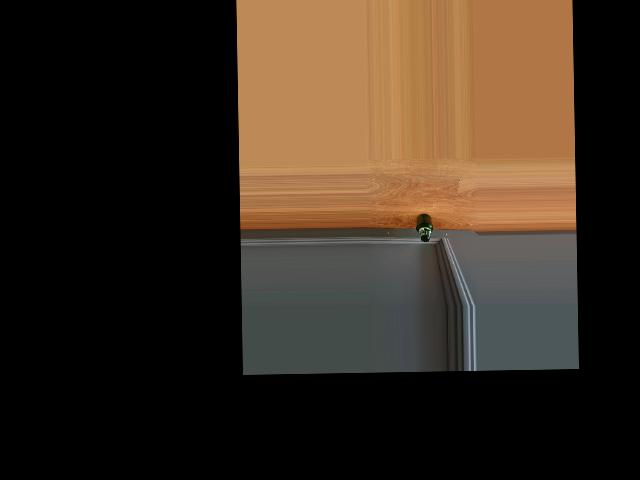beer: (415, 213, 433, 242)
